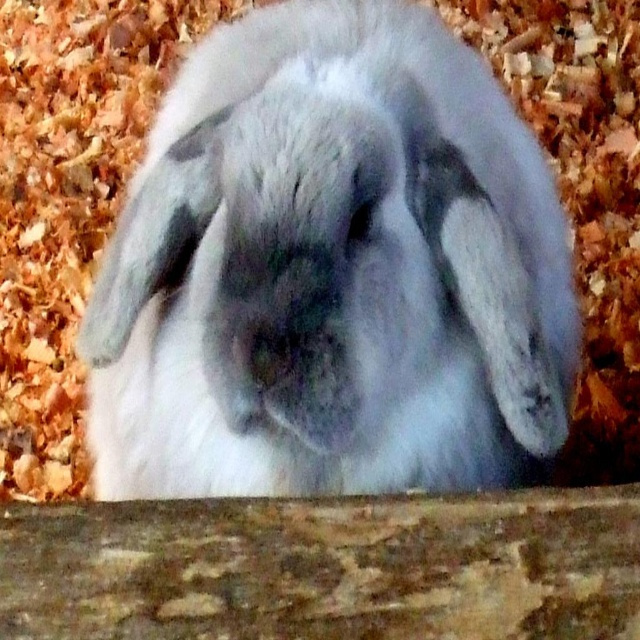Rabbit: (76, 0, 580, 499)
